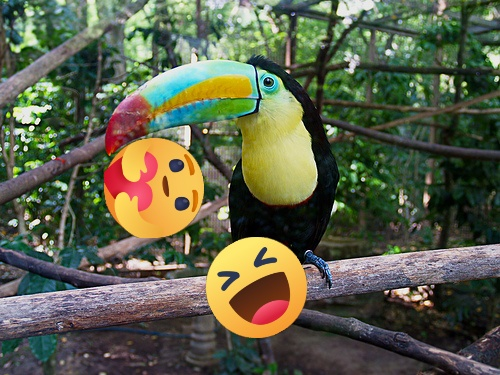care: (104, 138, 204, 238)
haha: (206, 237, 307, 338)
